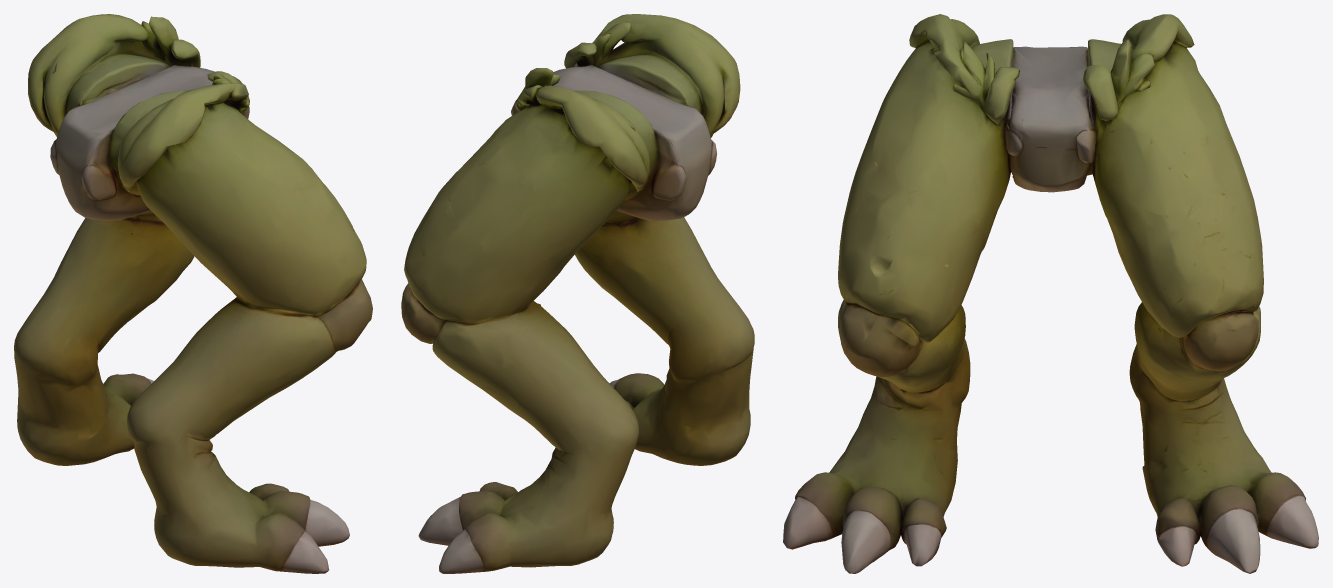
Rendered from legs.glb.
3 views of the same model, side by side, from view 1: azimuth 30°, elevation 25°; view 2: azimuth 150°, elevation 25°; view 3: azimuth 270°, elevation 25° (orthographic). The views are drawn at different scales.
Visible parts, largest first — view 1: tripo_node_51ba542a-6e69-4edc-bdb7-8b9b3f56b1e9; view 2: tripo_node_51ba542a-6e69-4edc-bdb7-8b9b3f56b1e9; view 3: tripo_node_51ba542a-6e69-4edc-bdb7-8b9b3f56b1e9.
Boxes of the visible parts, <box> form: tripo_node_51ba542a-6e69-4edc-bdb7-8b9b3f56b1e9: <box>14,14,372,573</box>; tripo_node_51ba542a-6e69-4edc-bdb7-8b9b3f56b1e9: <box>401,14,754,573</box>; tripo_node_51ba542a-6e69-4edc-bdb7-8b9b3f56b1e9: <box>783,14,1318,573</box>.
Bounding box in the file's own units: 0.5228 × 1 × 0.9734.
1 material, 1 textured.
